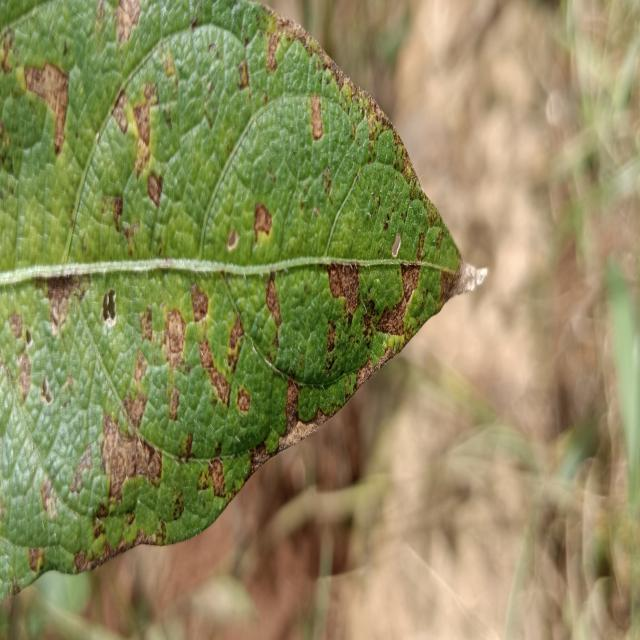Black gram_leaf spot: (0, 0, 492, 608)
